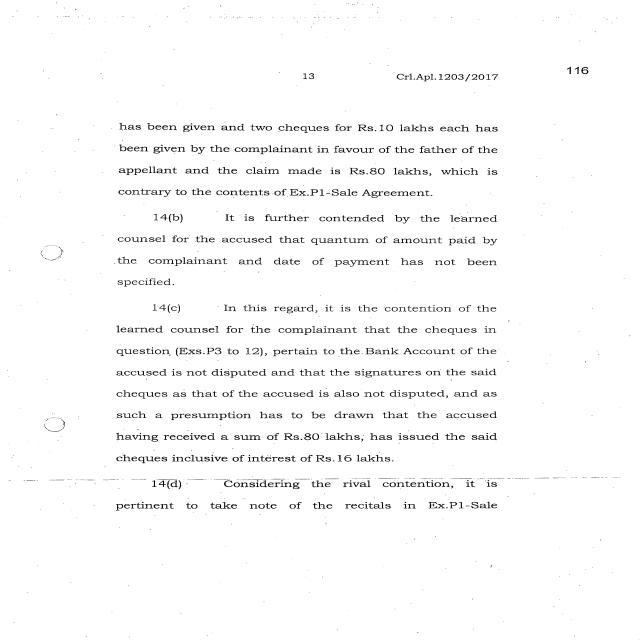page-number: (499, 0, 640, 164)
